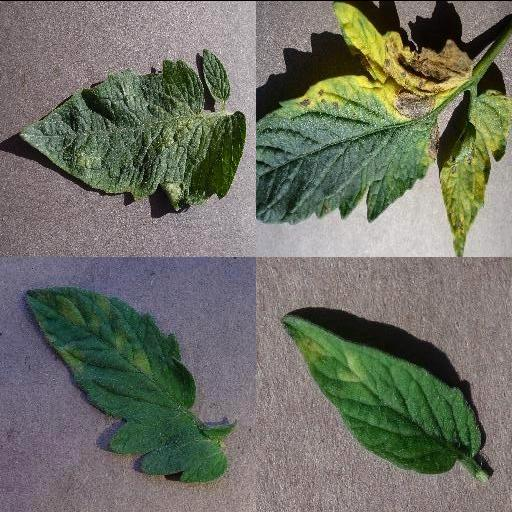Early Blight: (257, 0, 473, 226)
Leaf Mold: (22, 285, 230, 482), (281, 311, 483, 473)
Spider Mites: (18, 49, 246, 209)
